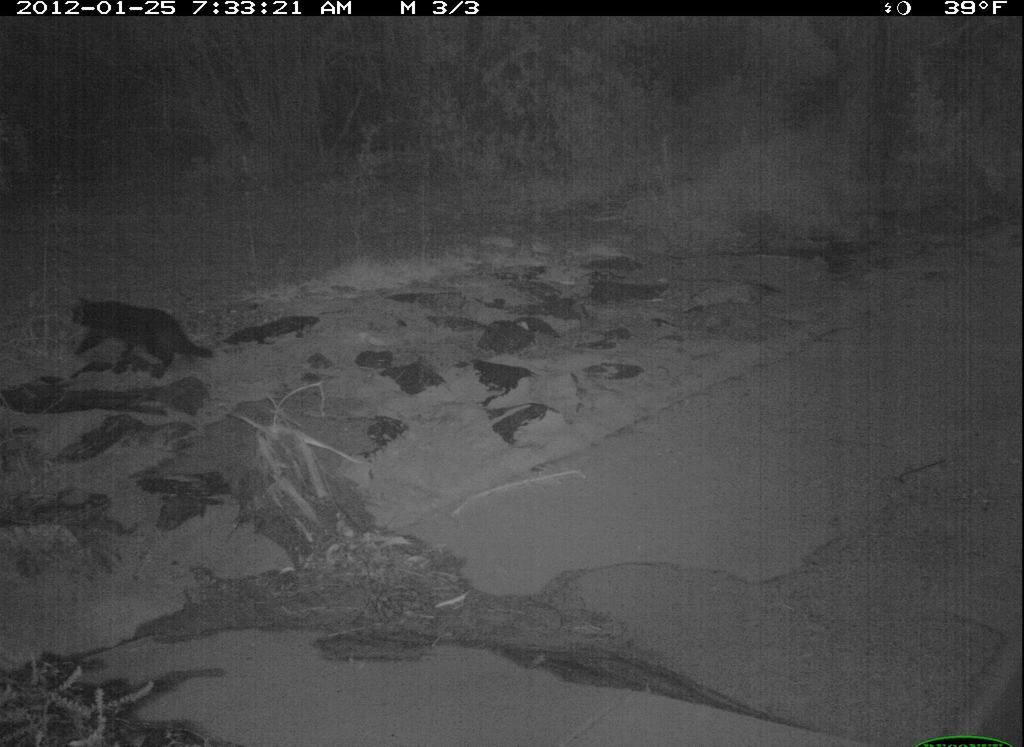cat: (70, 292, 219, 391)
